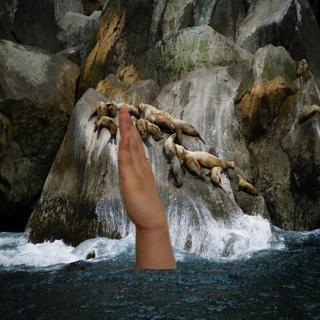RIGHT: (103, 99, 183, 235)
